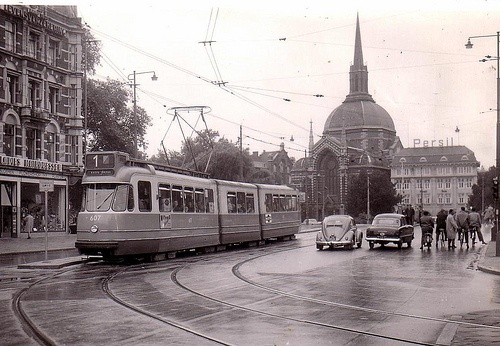non-vehicle: (469, 224, 477, 250), (437, 227, 445, 249), (425, 231, 432, 250), (459, 228, 464, 248)
